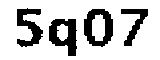0: (82, 6, 116, 52)
5: (11, 4, 43, 54)
7: (118, 5, 154, 50)
q: (47, 15, 79, 60)
